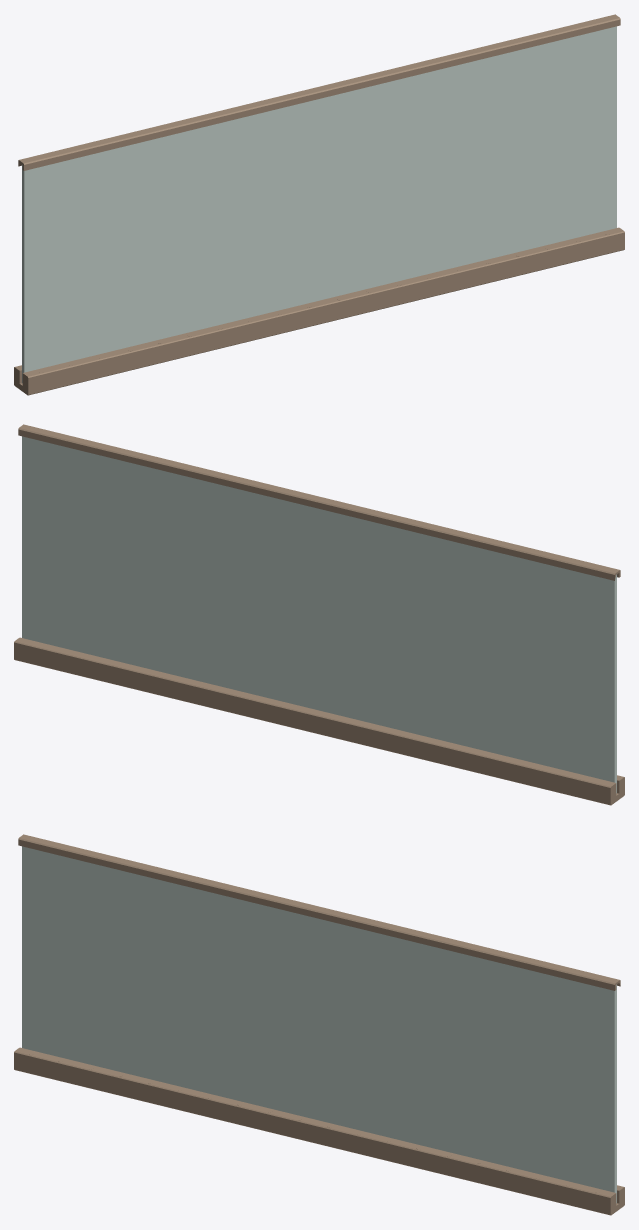
Rendered from gc-glassline-300-quartz-1019.glb.
The picture shows the model from 3 angles, top to bottom: view 1: azimuth 30°, elevation 25°; view 2: azimuth 150°, elevation 25°; view 3: azimuth 330°, elevation 25°; orthographic projection.
Visible parts, largest first — view 1: verre, structure; view 2: verre, structure; view 3: verre, structure.
Boxes of the visible parts, x1,y1,x2,y2 form: verre: (22, 26, 616, 383); structure: (14, 14, 624, 395); verre: (22, 436, 616, 793); structure: (14, 424, 624, 805); verre: (22, 846, 616, 1203); structure: (14, 834, 624, 1215).
Bounding box in the file's own units: 3 × 1.1 × 0.125.
